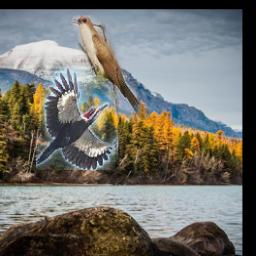Cuckoo: (72, 15, 152, 120)
Woodpecker: (35, 68, 117, 171)
